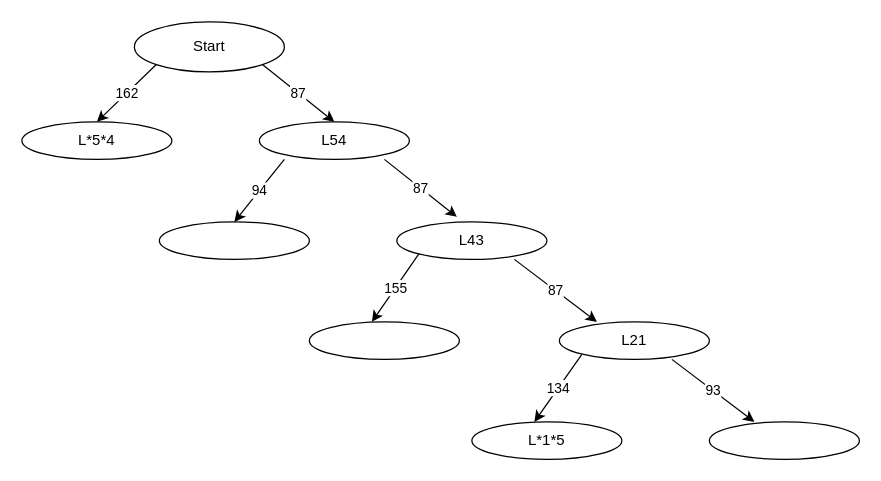
The diagram is 881 pixels wide and 481 high, and some of its shapes have lost their labels. Here are the shapes that lost their labels. From the top down, the centre of each, then its label:
At (x=233, y=240): "L*4*3".
At (x=383, y=340): "L*2*1".
At (x=783, y=440): "L15".
